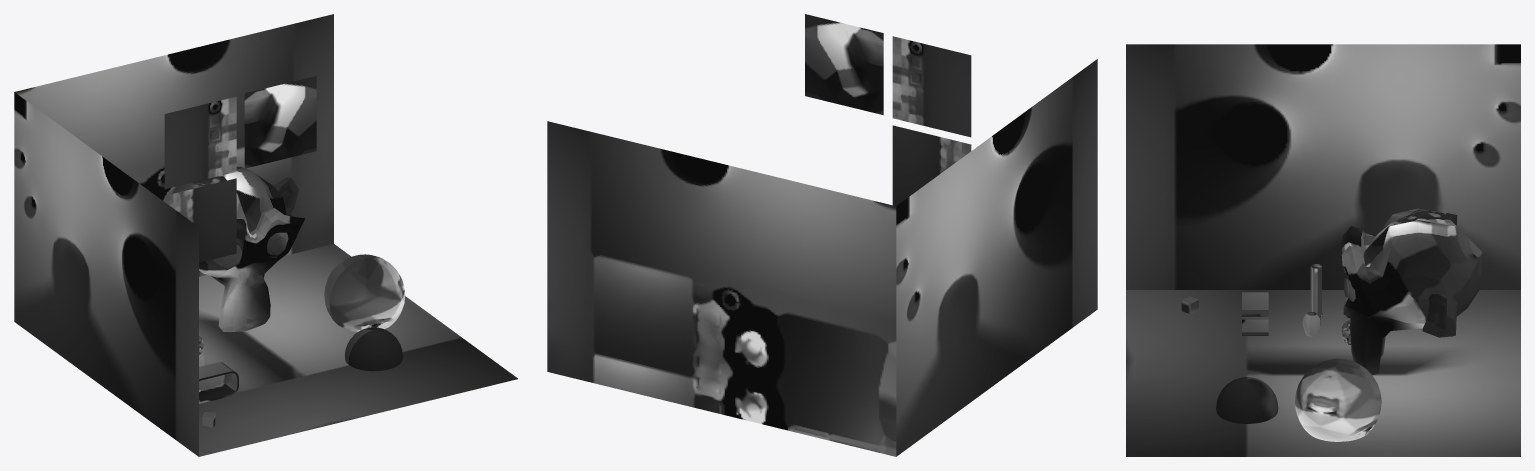
The model's file is random.glb.
3 views of the same model, side by side, from view 1: azimuth 30°, elevation 25°; view 2: azimuth 150°, elevation 25°; view 3: azimuth 270°, elevation 25° (orthographic). The views are drawn at different scales.
Visible parts, largest first — view 1: Merged.002, Merged.005, Merged.001, Merged.006, Suzanne, Merged.003, Merged.004, Cube.012; view 2: Merged.001, Merged.002, Merged.006; view 3: Merged.002, Merged.005, Suzanne, Merged.003, Merged.004, Cube.012, Cylinder.003.
Part boxes in pixels (bbox=[...]): Merged.002: bbox=[14, 92, 198, 456]; Merged.005: bbox=[199, 244, 517, 456]; Merged.001: bbox=[15, 14, 333, 276]; Merged.006: bbox=[164, 76, 316, 262]; Suzanne: bbox=[163, 166, 305, 331]; Merged.003: bbox=[324, 254, 405, 331]; Merged.004: bbox=[344, 327, 402, 371]; Cube.012: bbox=[199, 362, 238, 403]; Merged.001: bbox=[547, 121, 896, 456]; Merged.002: bbox=[896, 59, 1097, 456]; Merged.006: bbox=[805, 14, 971, 205]; Merged.002: bbox=[1126, 44, 1520, 289]; Merged.005: bbox=[1126, 290, 1520, 456]; Suzanne: bbox=[1341, 208, 1482, 374]; Merged.003: bbox=[1295, 358, 1381, 441]; Merged.004: bbox=[1216, 377, 1278, 423]; Cube.012: bbox=[1242, 292, 1268, 335]; Cylinder.003: bbox=[1310, 264, 1323, 317].
Bounding box in the file's own units: 4.78 × 4.33 × 4.78.
1 material, 1 textured.
